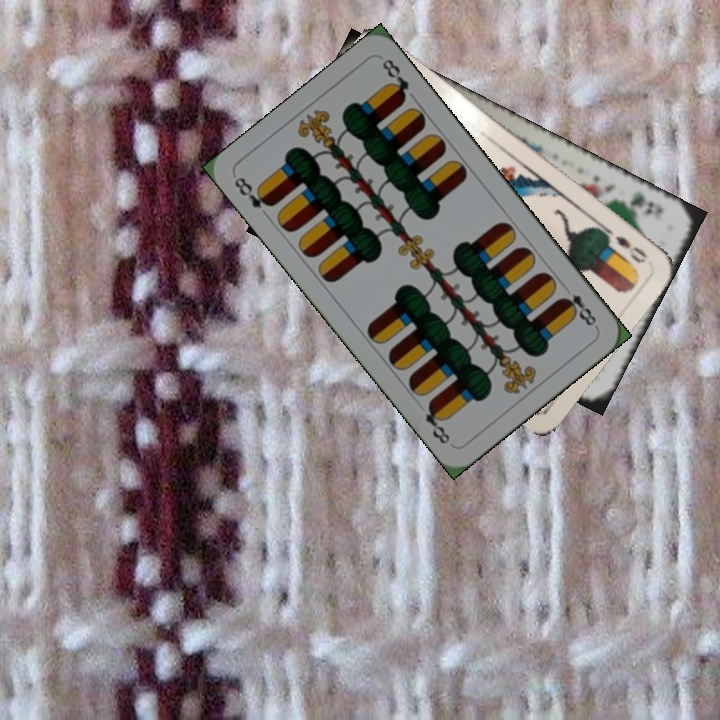E8: (230, 172, 277, 212), (557, 289, 600, 331)
EO: (602, 225, 650, 266)
GK: (616, 187, 666, 222)
